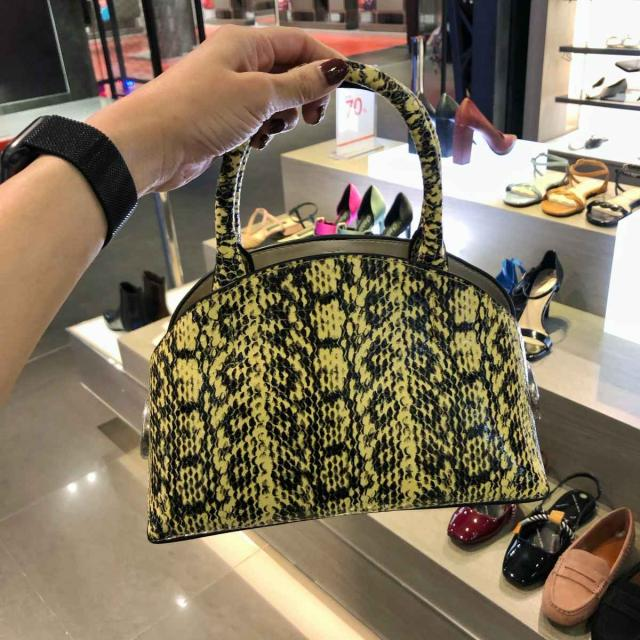handbag: (142, 56, 549, 545)
